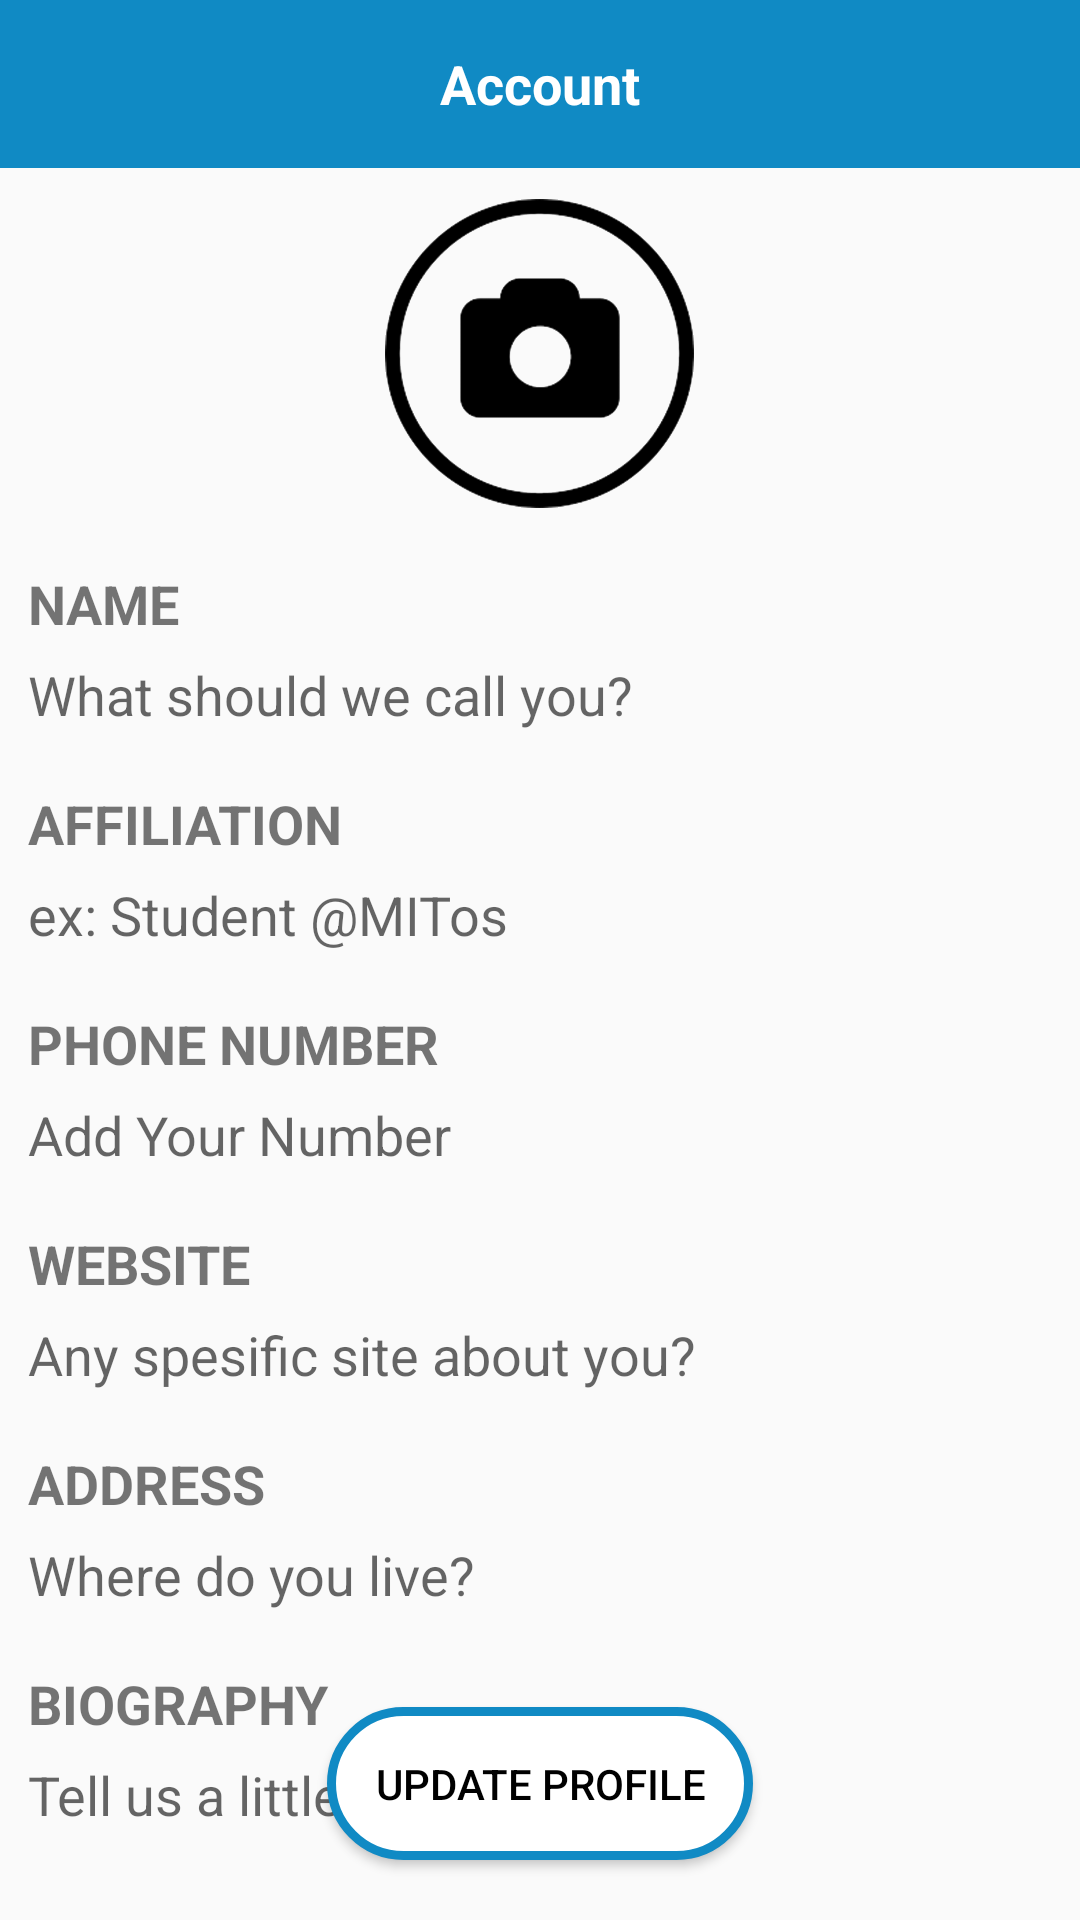

Icons on this 1080w x 1920h Android screen, each with the point to tap as (x,y):
camera: (539,353)
